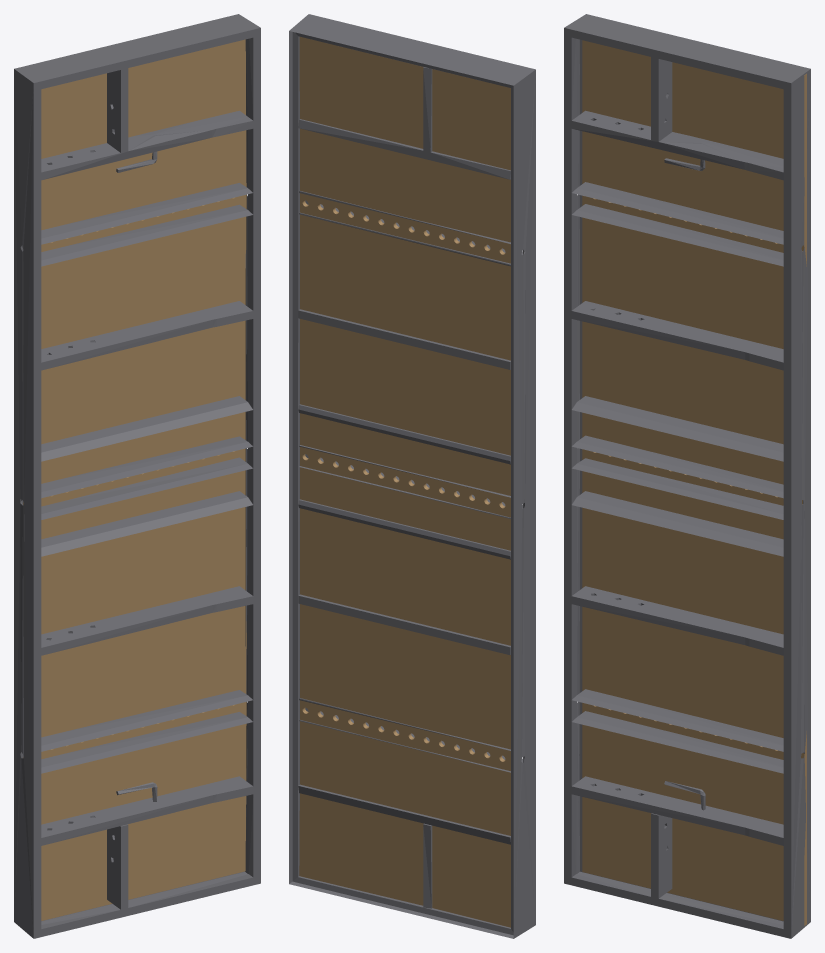
The picture shows the model from 3 angles, left to right: view 1: azimuth 30°, elevation 25°; view 2: azimuth 150°, elevation 25°; view 3: azimuth 330°, elevation 25°; orthographic projection.
Parts seen in each view (by area): view 1: 27754219; view 2: 27754219; view 3: 27754219.
Boxes of the visible parts, x1,y1,x2,y2 form: 27754219: [14, 14, 260, 938]; 27754219: [289, 14, 535, 938]; 27754219: [564, 14, 810, 938].
Bounding box in the file's own units: 0.75 × 2.7 × 0.12.
